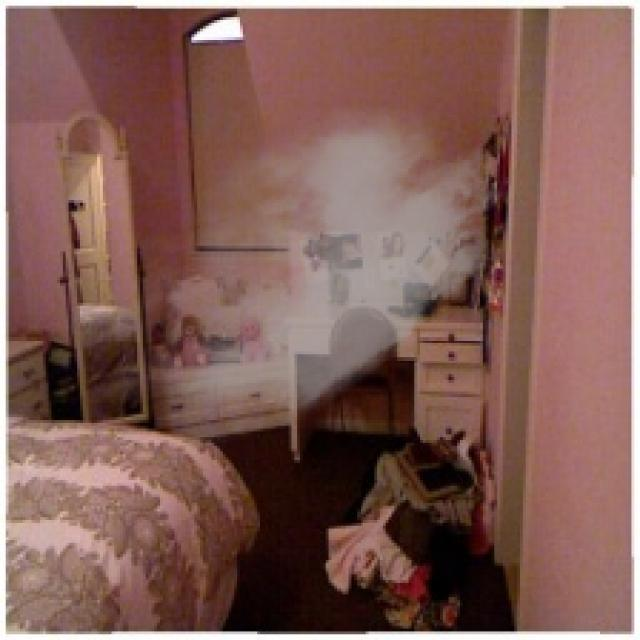smoke: (89, 89, 508, 454)
